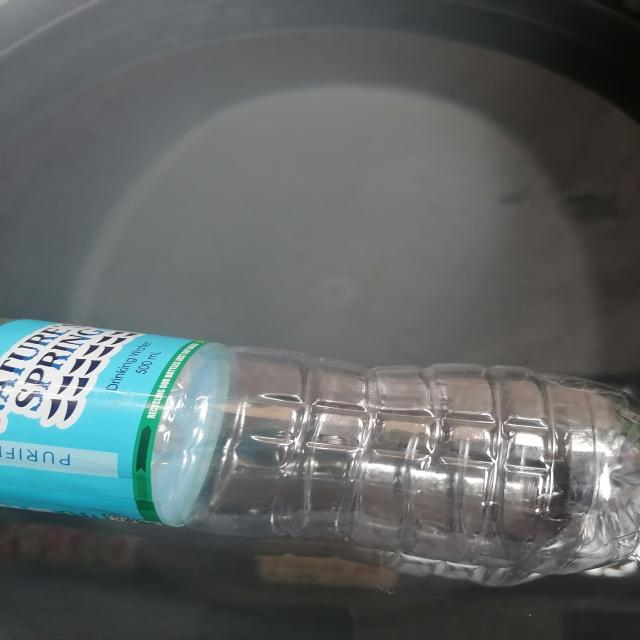Plastic Bottle: (0, 299, 640, 595)
